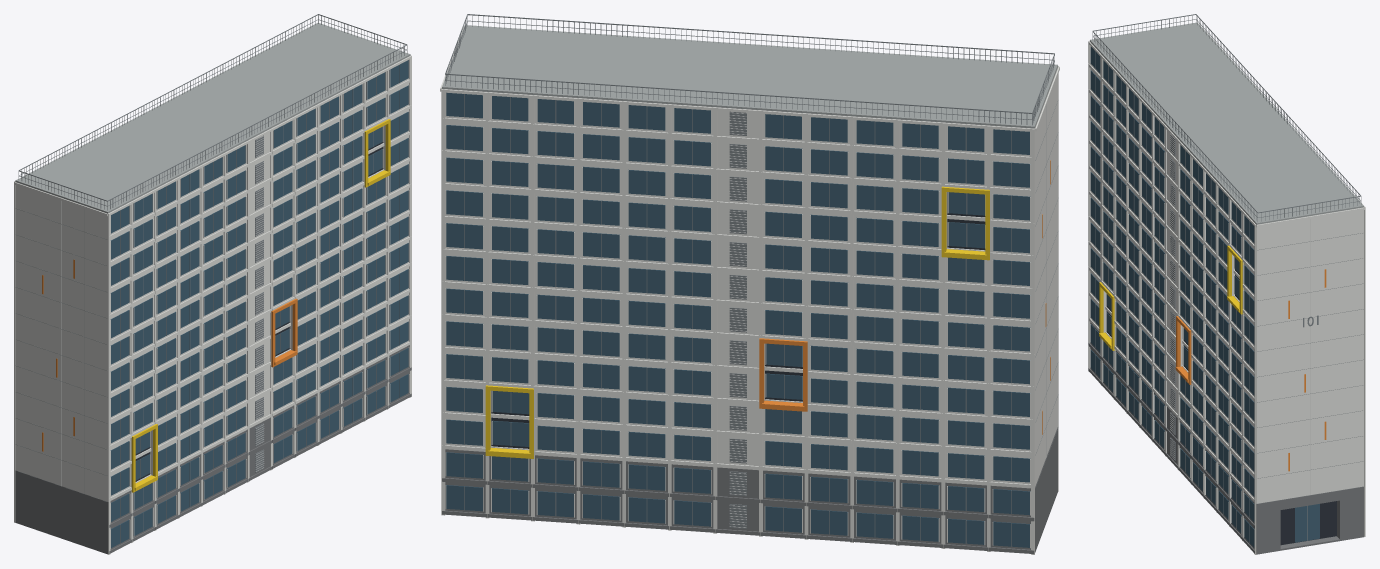
File: bespoke-songpa-helio-city-101.glb
3 views of the same model, side by side, from view 1: azimuth 30°, elevation 25°; view 2: azimuth 150°, elevation 25°; view 3: azimuth 270°, elevation 25° (orthographic). The views are drawn at different scales.
Visible parts, largest first — view 1: Helio101_editable_Helio101_white_slab_frames002, Helio101_editable_Helio101_dark_blue_grey_glazing002, Helio101_editable_Helio101_low_roof_deck002, Helio101_editable_Helio101_grey_service_grille002, Helio101_editable_Helio101_dark_grey_twofloor_base002, Helio101_editable_Helio101_blankwall_grey_panels002, Helio101_editable_Helio101_yellow_projecting_rectangular_fra, Helio101_editable_Helio101_orange_narrow_accent002; view 2: Helio101_editable_Helio101_dark_blue_grey_glazing002, Helio101_editable_Helio101_white_slab_frames002, Helio101_editable_Helio101_low_roof_deck002, Helio101_editable_Helio101_grey_service_grille002, Helio101_editable_Helio101_dark_grey_twofloor_base002, Helio101_editable_Helio101_yellow_projecting_rectangular_fra, Helio101_editable_Helio101_blankwall_grey_panels002, Helio101_editable_Helio101_orange_narrow_accent002, Helio101_editable_Helio101_deep_shaded_frame_recess002; view 3: Helio101_editable_Helio101_white_slab_frames002, Helio101_editable_Helio101_dark_blue_grey_glazing002, Helio101_editable_Helio101_low_roof_deck002, Helio101_editable_Helio101_grey_service_grille002, Helio101_editable_Helio101_dark_grey_twofloor_base002, Helio101_editable_Helio101_deep_shaded_frame_recess002, Helio101_editable_Helio101_yellow_projecting_rectangular_fra, Helio101_editable_Helio101_blankwall_grey_panels002, Helio101_editable_Helio101_orange_narrow_accent002.
Part boxes in pixels (box(x1,y1,x2,y2)): Helio101_editable_Helio101_white_slab_frames002: box(14, 55, 411, 554); Helio101_editable_Helio101_dark_blue_grey_glazing002: box(110, 60, 408, 547); Helio101_editable_Helio101_low_roof_deck002: box(15, 23, 410, 213); Helio101_editable_Helio101_grey_service_grille002: box(15, 14, 407, 543); Helio101_editable_Helio101_dark_grey_twofloor_base002: box(15, 345, 411, 554); Helio101_editable_Helio101_blankwall_grey_panels002: box(61, 136, 264, 493); Helio101_editable_Helio101_yellow_projecting_rectangular_fra: box(131, 119, 390, 492); Helio101_editable_Helio101_orange_narrow_accent002: box(42, 259, 297, 451); Helio101_editable_Helio101_dark_blue_grey_glazing002: box(446, 92, 1030, 547); Helio101_editable_Helio101_white_slab_frames002: box(440, 27, 1059, 554); Helio101_editable_Helio101_low_roof_deck002: box(442, 25, 1057, 128); Helio101_editable_Helio101_grey_service_grille002: box(445, 14, 1058, 546); Helio101_editable_Helio101_dark_grey_twofloor_base002: box(442, 427, 1057, 553); Helio101_editable_Helio101_yellow_projecting_rectangular_fra: box(485, 186, 989, 458); Helio101_editable_Helio101_blankwall_grey_panels002: box(729, 97, 1046, 527); Helio101_editable_Helio101_orange_narrow_accent002: box(759, 160, 1050, 434); Helio101_editable_Helio101_deep_shaded_frame_recess002: box(491, 192, 985, 448); Helio101_editable_Helio101_white_slab_frames002: box(1088, 24, 1365, 554); Helio101_editable_Helio101_dark_blue_grey_glazing002: box(1090, 46, 1319, 547); Helio101_editable_Helio101_low_roof_deck002: box(1090, 22, 1363, 224); Helio101_editable_Helio101_grey_service_grille002: box(1092, 14, 1363, 542); Helio101_editable_Helio101_dark_grey_twofloor_base002: box(1088, 322, 1363, 554); Helio101_editable_Helio101_deep_shaded_frame_recess002: box(1106, 269, 1336, 545); Helio101_editable_Helio101_yellow_projecting_rectangular_fra: box(1099, 245, 1243, 350); Helio101_editable_Helio101_blankwall_grey_panels002: box(1170, 134, 1310, 494); Helio101_editable_Helio101_orange_narrow_accent002: box(1175, 269, 1326, 471).
Size of the model in its own units: 47.57 by 37.4 by 27.56.
